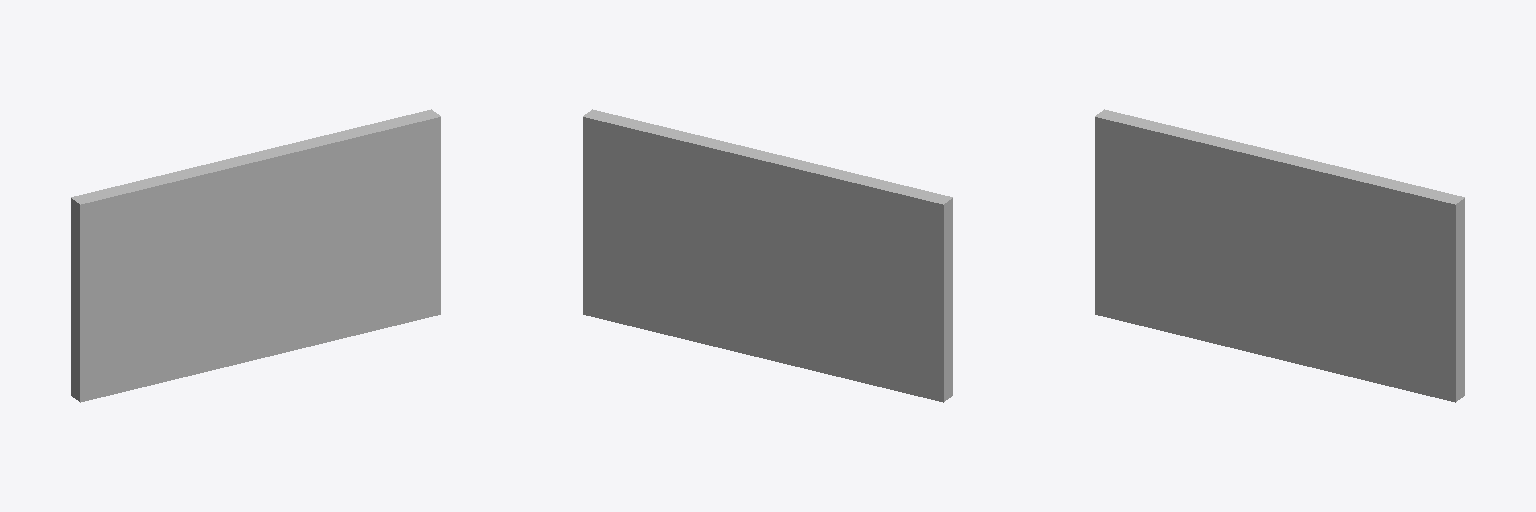
The model's file is House Interior Rooms - Free Sample-5.obj.
3 views of the same model, side by side, from view 1: azimuth 30°, elevation 25°; view 2: azimuth 150°, elevation 25°; view 3: azimuth 330°, elevation 25° (orthographic).
Visible parts, largest first — view 1: object 1; view 2: object 1; view 3: object 1.
Boxes of the visible parts, <box> form: object 1: <box>71,109,440,402</box>; object 1: <box>583,109,952,402</box>; object 1: <box>1095,109,1464,402</box>.
Bounding box in the file's own units: 2.1 × 1.1 × 0.1.